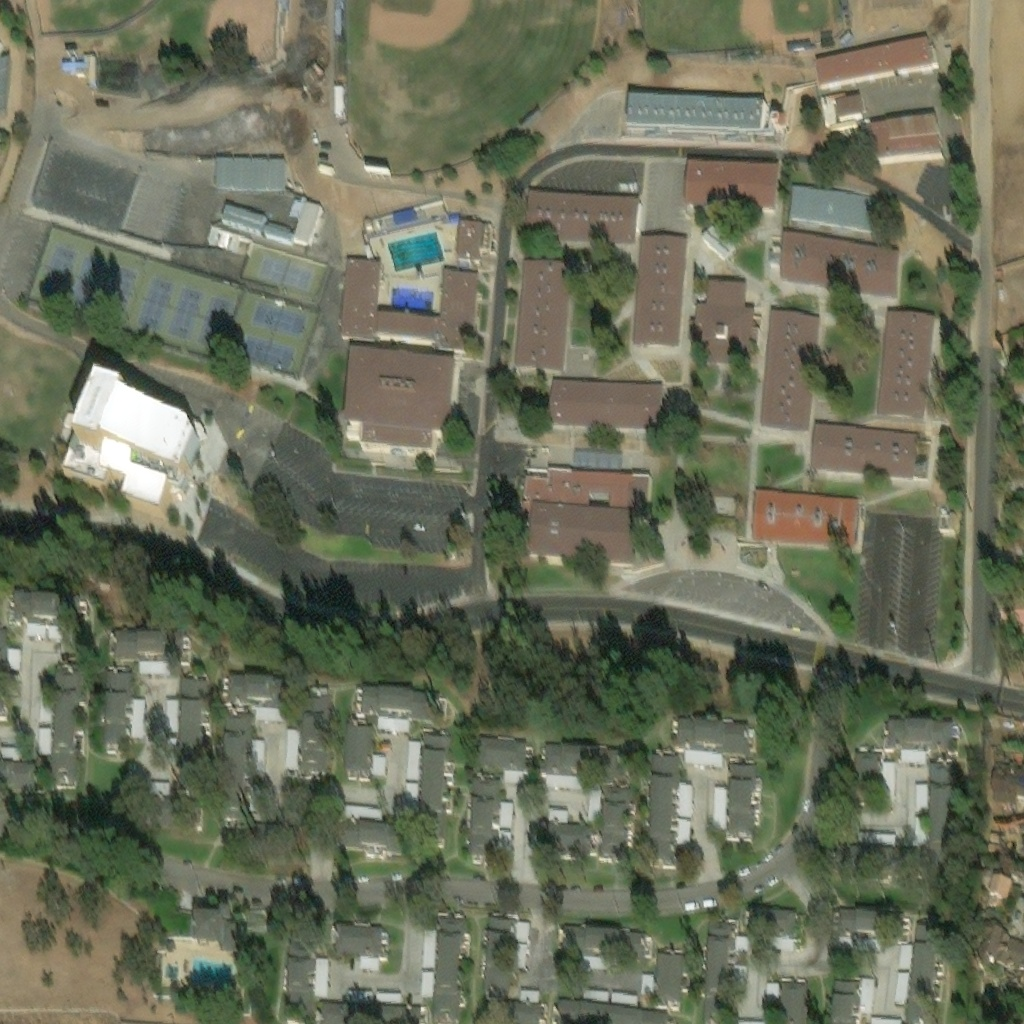0 no-damage: (67, 381, 202, 520), (340, 258, 478, 349), (345, 351, 459, 452), (760, 306, 818, 430), (780, 231, 898, 291), (529, 502, 638, 566), (513, 254, 572, 370), (522, 467, 652, 519), (815, 40, 940, 94), (523, 187, 639, 244), (632, 233, 689, 347), (875, 303, 931, 417), (808, 420, 918, 478), (625, 90, 766, 135), (547, 376, 663, 430), (751, 490, 858, 545), (690, 281, 753, 365), (684, 158, 779, 210), (49, 669, 91, 783), (907, 919, 945, 1023), (432, 917, 469, 1023), (301, 693, 335, 800), (700, 918, 735, 1021), (872, 119, 944, 168), (646, 751, 678, 857), (11, 600, 84, 646), (420, 736, 451, 844), (790, 187, 876, 225), (926, 758, 958, 853), (559, 922, 641, 958), (262, 195, 321, 245), (479, 915, 514, 995), (555, 999, 665, 1023), (972, 922, 1023, 973), (283, 935, 314, 1017), (723, 757, 755, 833), (467, 778, 498, 854), (317, 1002, 425, 1023), (180, 688, 210, 763), (599, 783, 629, 858), (116, 640, 189, 670), (361, 690, 434, 720), (226, 681, 299, 711), (827, 905, 900, 935), (671, 719, 744, 749), (543, 744, 616, 774), (883, 717, 956, 747), (223, 717, 253, 787), (105, 677, 135, 747), (360, 434, 454, 456), (192, 909, 237, 950), (334, 923, 384, 956), (455, 215, 492, 258), (830, 970, 860, 1023), (748, 901, 797, 933), (343, 825, 399, 853), (347, 725, 375, 780), (481, 737, 527, 769), (545, 821, 591, 853), (652, 950, 683, 997), (775, 979, 808, 1023), (988, 764, 1023, 804), (849, 746, 878, 794), (221, 204, 267, 234), (0, 637, 23, 690), (573, 451, 623, 472), (64, 60, 99, 90), (836, 99, 869, 128), (985, 876, 1014, 909), (506, 1001, 542, 1023), (858, 973, 875, 1019), (0, 688, 23, 721), (857, 822, 894, 839), (215, 155, 234, 188), (0, 58, 11, 114), (133, 704, 148, 744), (0, 720, 22, 747), (250, 156, 268, 189), (345, 808, 384, 823), (233, 156, 251, 188), (683, 748, 721, 763), (710, 783, 725, 821), (313, 956, 328, 994), (676, 779, 693, 812), (408, 743, 422, 782), (268, 157, 285, 189), (288, 734, 302, 772), (880, 757, 894, 795), (546, 773, 581, 788), (421, 931, 435, 968), (141, 668, 174, 683), (893, 968, 907, 1001), (40, 694, 54, 726), (168, 705, 181, 739), (379, 722, 413, 735), (0, 745, 22, 765), (37, 730, 52, 757), (346, 987, 372, 1002), (499, 800, 513, 827), (675, 814, 689, 841), (913, 779, 927, 806), (375, 989, 402, 1003), (513, 942, 527, 969), (581, 987, 607, 1001), (610, 989, 636, 1003), (897, 939, 911, 965), (255, 746, 266, 779), (407, 785, 420, 812), (335, 88, 346, 119), (900, 747, 926, 760), (581, 955, 607, 968), (764, 978, 779, 1000), (260, 714, 285, 727), (420, 970, 433, 995), (912, 810, 924, 836), (251, 792, 265, 814), (519, 989, 541, 1003), (503, 769, 524, 783), (587, 795, 600, 817), (548, 805, 567, 820), (374, 758, 387, 779), (639, 971, 652, 992), (154, 784, 172, 798), (734, 932, 748, 950), (359, 956, 379, 968), (869, 1016, 902, 1023), (516, 921, 528, 940), (1002, 857, 1015, 874), (497, 829, 511, 844), (737, 1016, 766, 1023), (345, 429, 361, 440), (733, 961, 746, 973), (0, 43, 2, 57)
